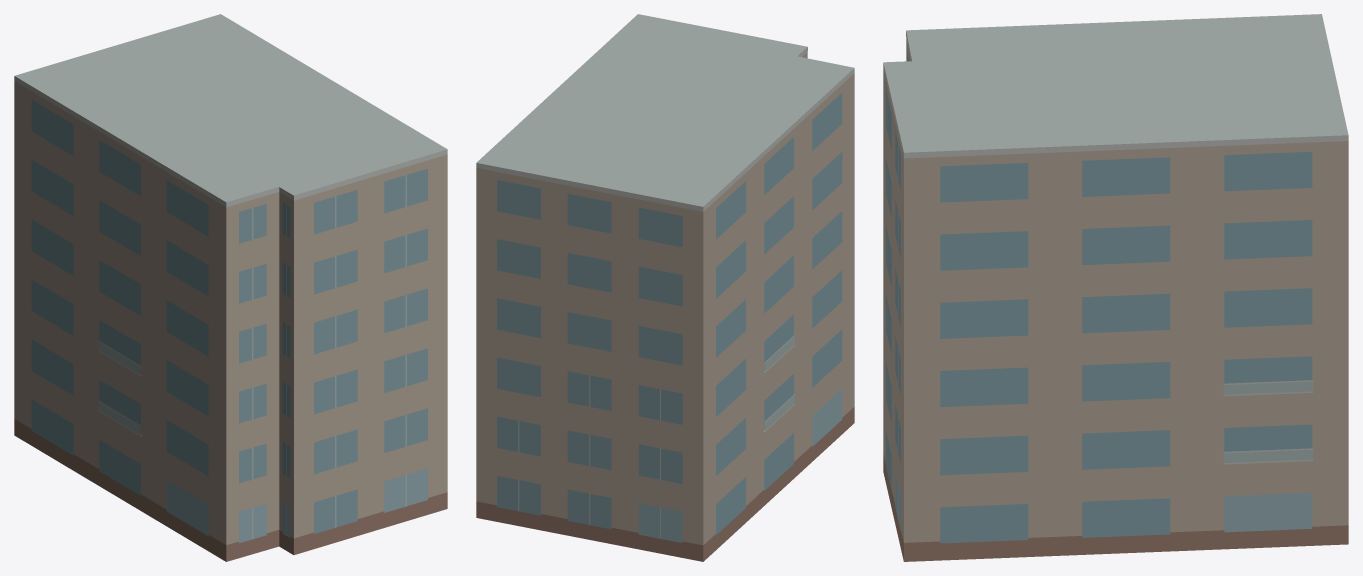
Rendered from survey-upis-32724812.glb.
3 views of the same model, side by side, from view 1: azimuth 30°, elevation 25°; view 2: azimuth 150°, elevation 25°; view 3: azimuth 270°, elevation 25° (orthographic). The views are drawn at different scales.
Parts seen in each view (by area): view 1: survey-upis-32724812.tmp; view 2: survey-upis-32724812.tmp; view 3: survey-upis-32724812.tmp.
Boxes of the visible parts, x1,y1,x2,y2 form: survey-upis-32724812.tmp: (14,14,447,561); survey-upis-32724812.tmp: (476,14,854,561); survey-upis-32724812.tmp: (883,14,1348,561).
Size of the model in its own units: 12.51 by 17.2 by 17.74.
